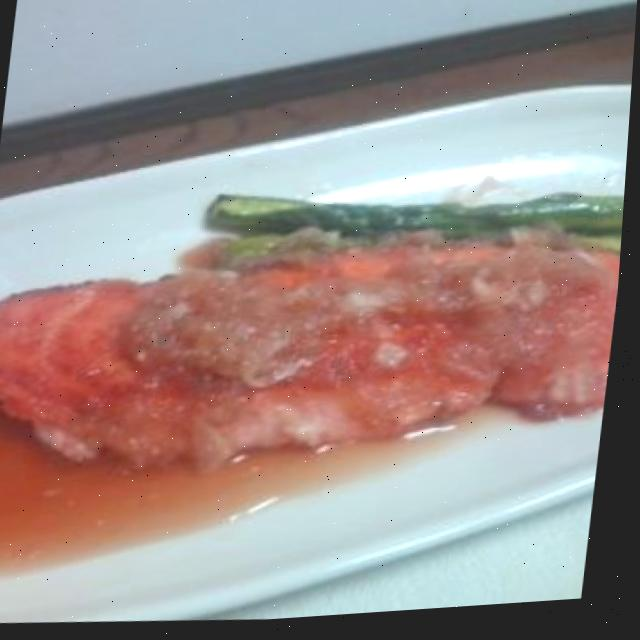熟制海鲜: (0, 195, 628, 484)
